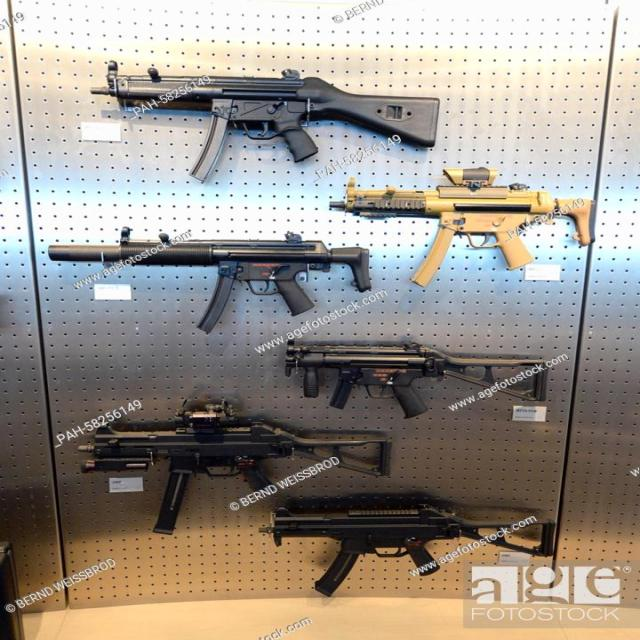SMG: (76, 404, 391, 534), (102, 61, 441, 180), (52, 233, 372, 334), (329, 168, 592, 287), (273, 503, 555, 596), (287, 340, 549, 418)
